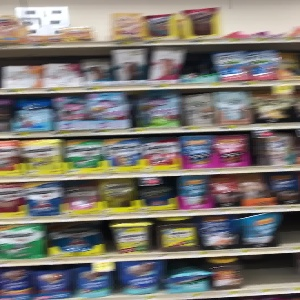void: (245, 250, 300, 290), (276, 205, 300, 251)
